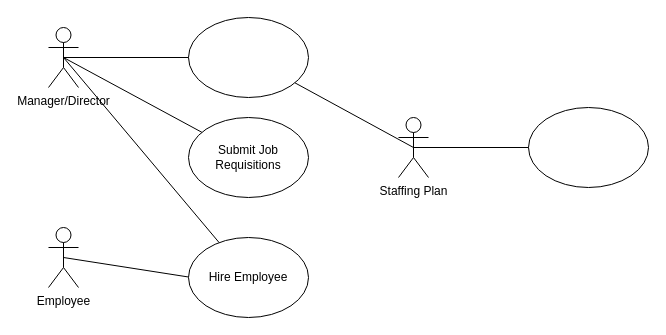
Image size: 666x335. Some labels were removed from this diagram. The shapes that lost their labels are listed below. From the top down, each one's centre as x and y in pixels, then its label:
At point 248,57: "Submit Productive Hours".
At point 588,147: "Convert Productive Hours into Headcount".
